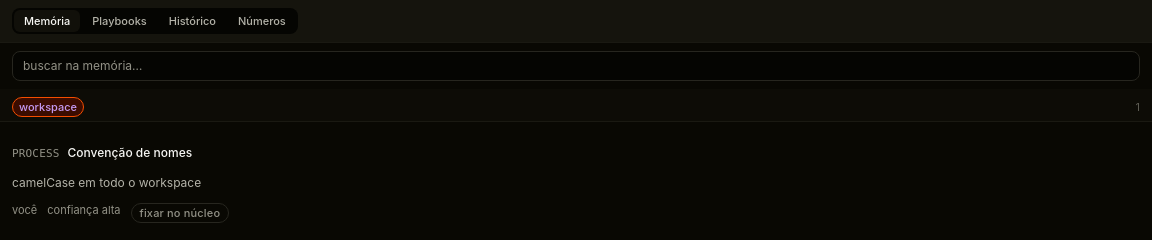
Test: MemoryPanel › histórico e números que falham também dizem o que falhou
Step 1. Click the tab "Histórico" → {"x": 192, "y": 21}, box [159, 10, 226, 32]
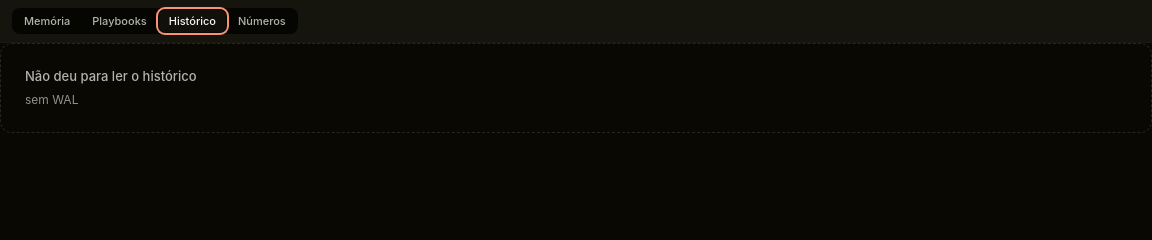
Now the text "Não deu para ler o histórico" is shown, box [25, 68, 197, 84]
Step 2. Click the tab "Números" → {"x": 262, "y": 21}, box [228, 10, 296, 32]
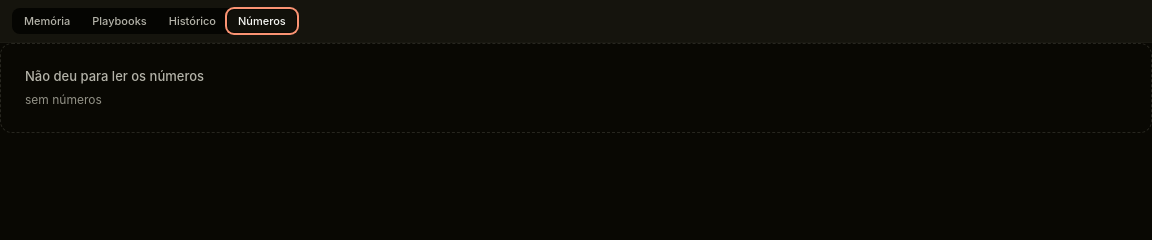
Now the text "Não deu para ler os números" is shown, box [25, 68, 204, 84]
